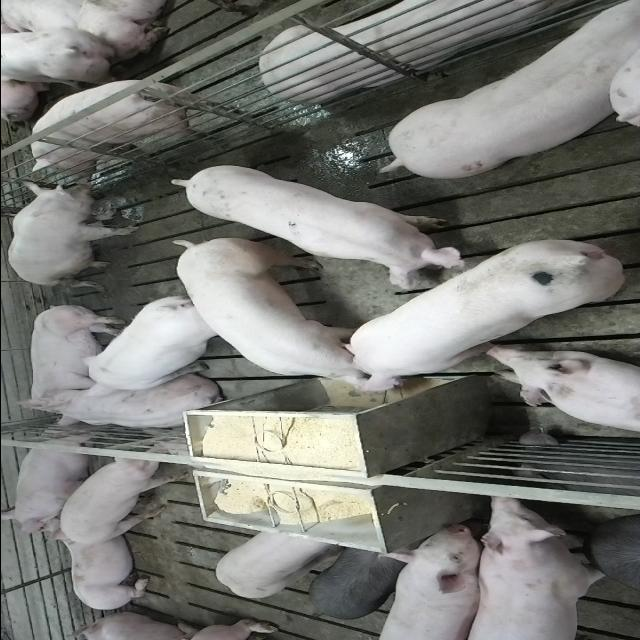Feeding: (342, 237, 626, 397), (165, 232, 385, 392)
Lateral_lying: (13, 302, 130, 416)
Sitting: (7, 180, 140, 287)
Standing: (375, 5, 635, 184), (165, 162, 465, 284), (460, 498, 612, 638), (28, 80, 236, 180), (78, 296, 230, 392), (368, 524, 478, 638), (61, 450, 188, 546), (212, 530, 340, 600), (306, 545, 409, 621), (590, 515, 640, 603)
Sternal_lying: (260, 0, 599, 100), (485, 348, 640, 435), (48, 521, 154, 613)
